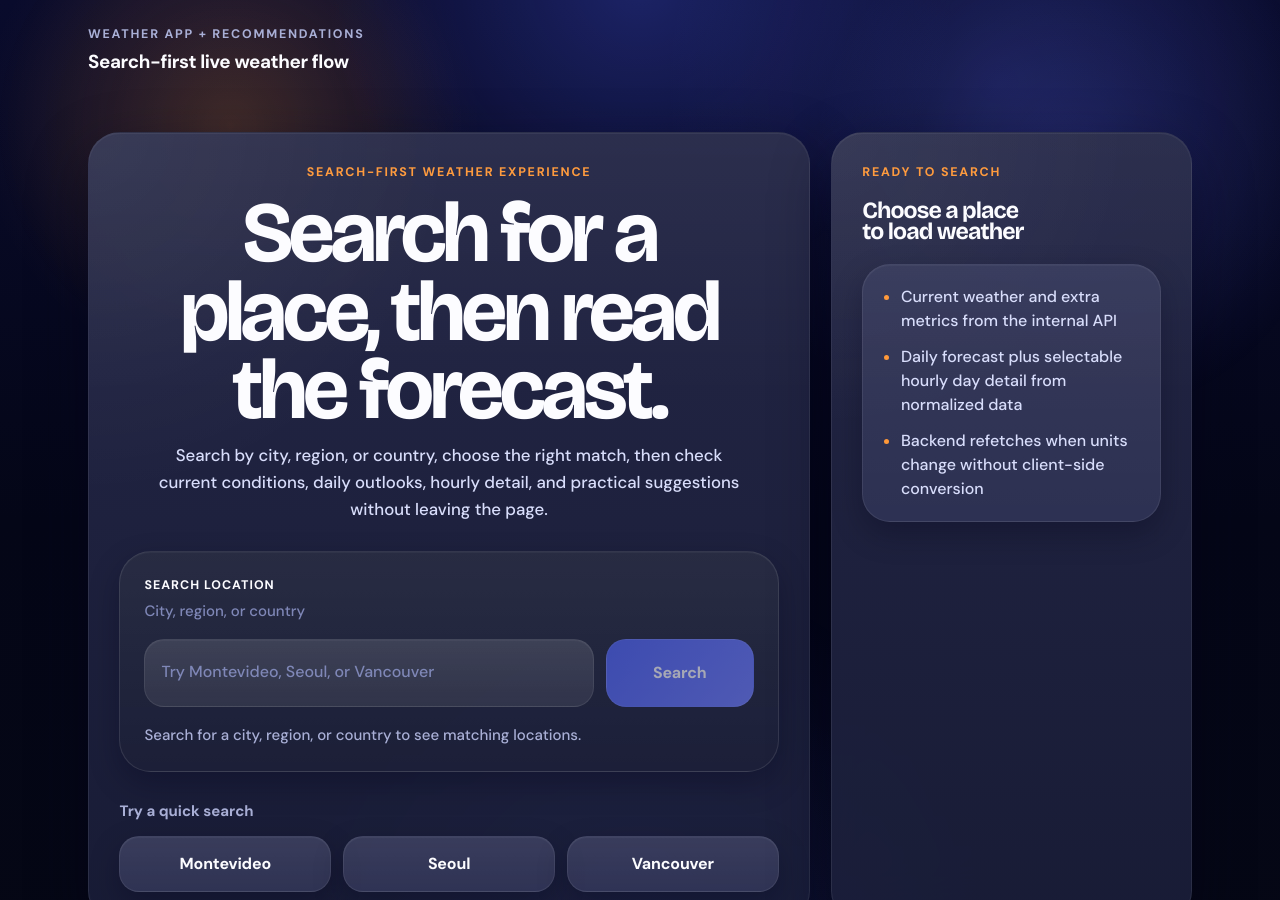
it: LocationSearchEmptyState › shows the no-results state after a search returns no matches
In the search field labelled "Search location": (369, 673) [144, 639, 594, 707], type "Atlantis"
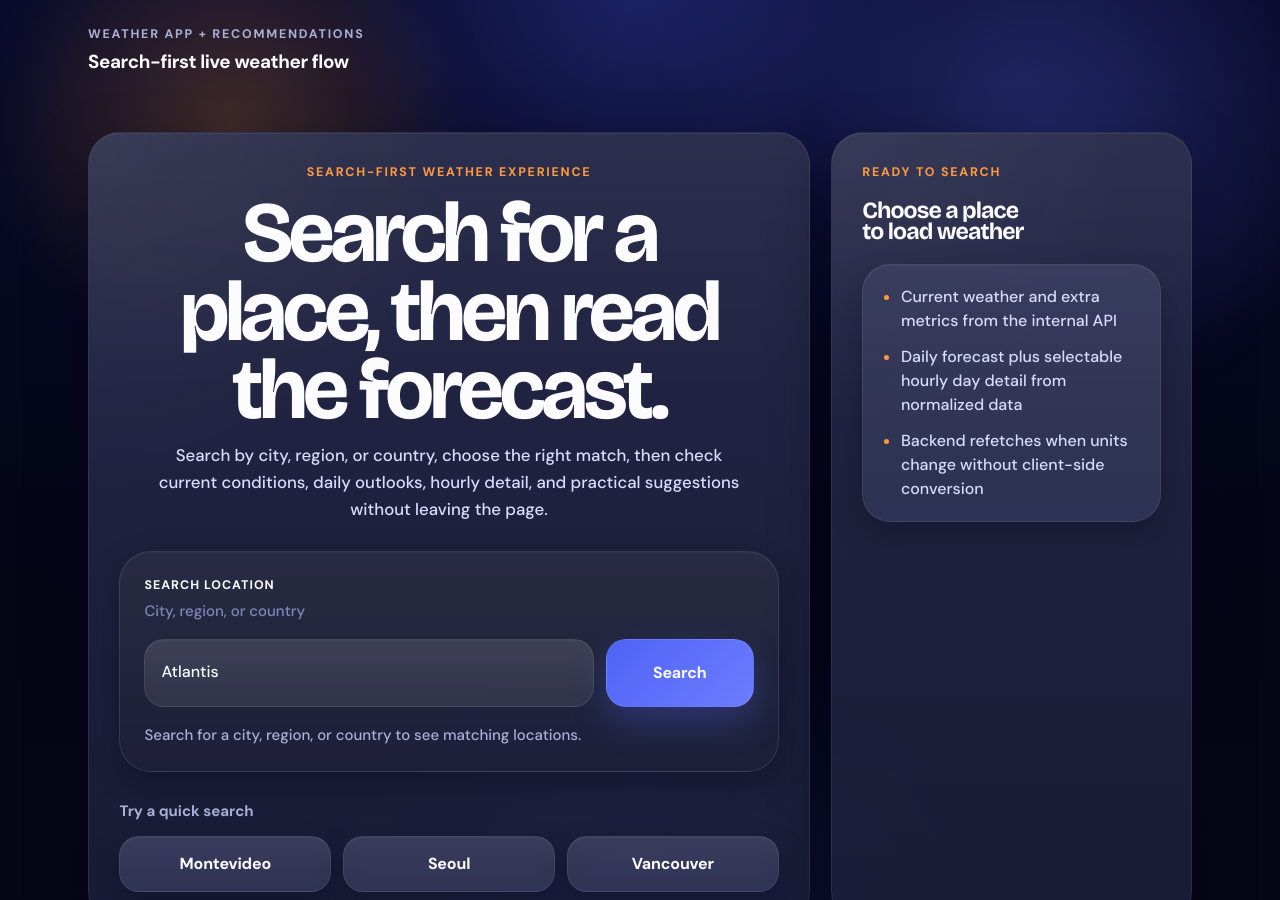
Submit the form labelled "Search location", box [119, 551, 779, 772]
(page scrolled)
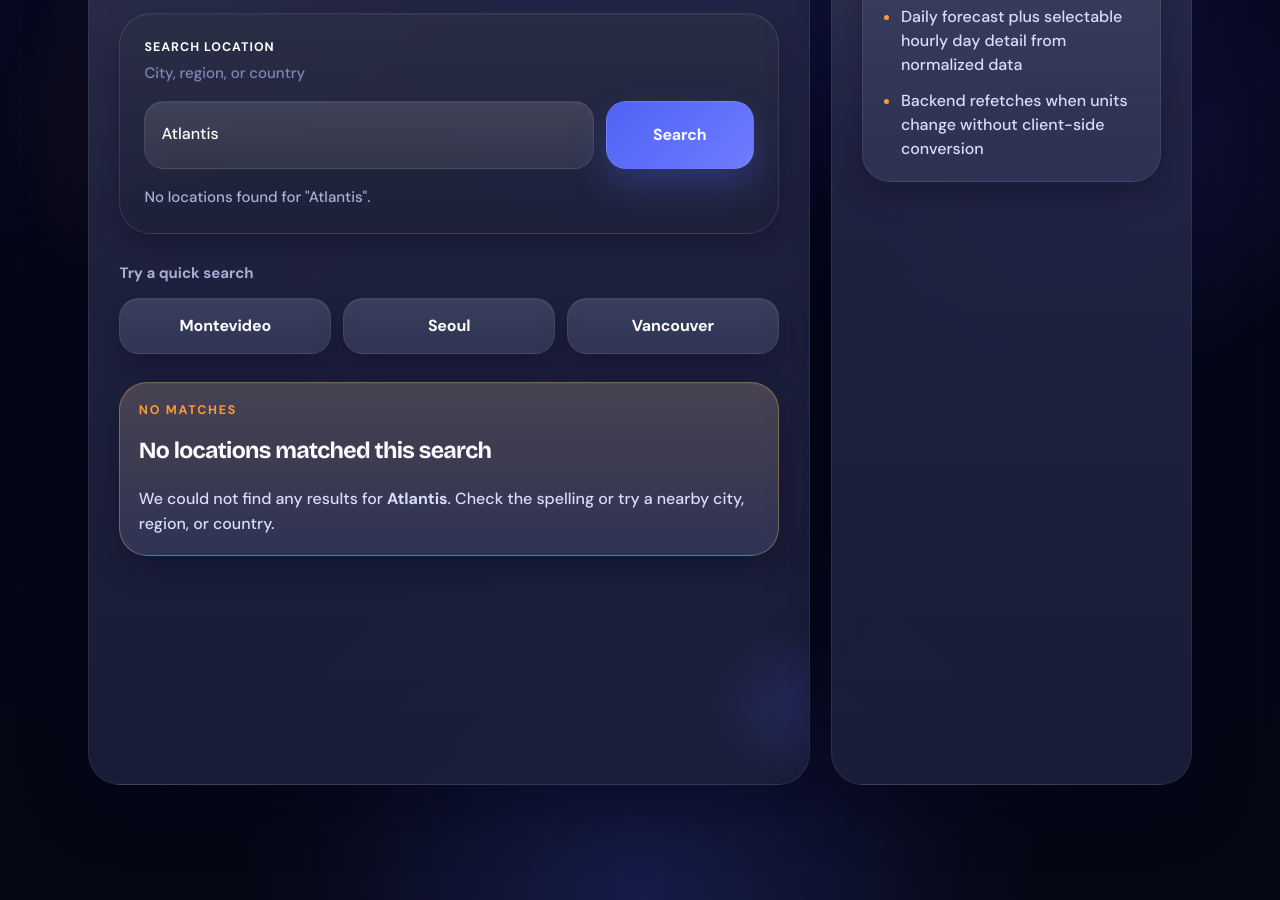
Expected: the heading "No locations matched this search" is shown, [139, 436, 491, 464]
